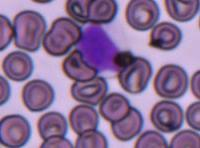M: (76, 22, 122, 72)
